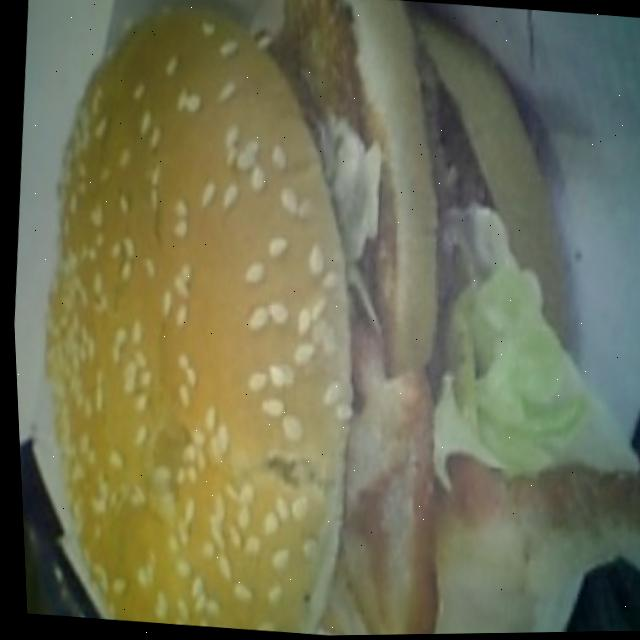汉堡快餐: (9, 14, 640, 640)
